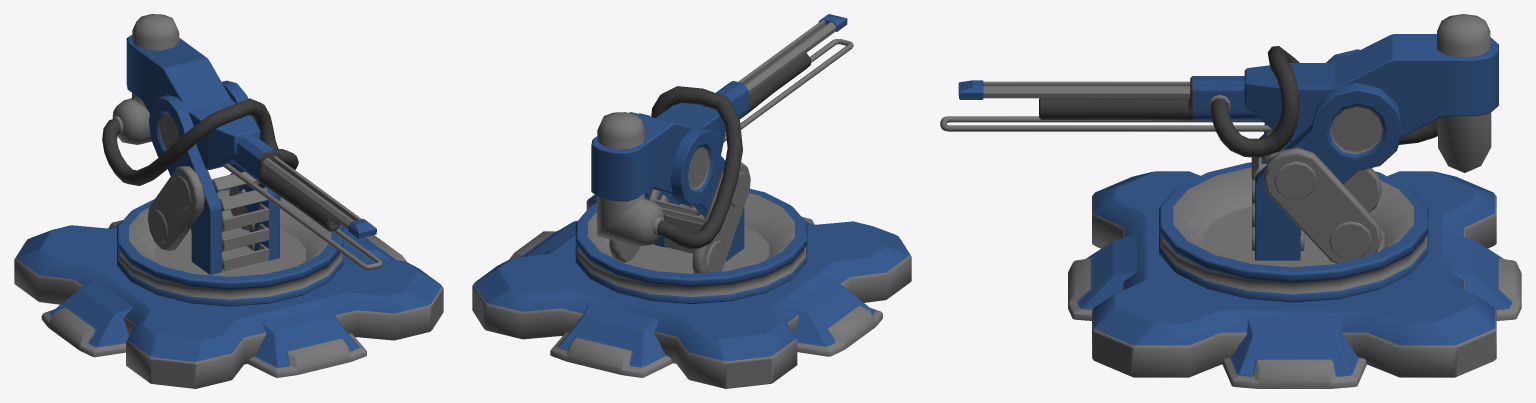
Rendered from Turret_Railgun.FBX.
The picture shows the model from 3 angles, left to right: view 1: azimuth 30°, elevation 25°; view 2: azimuth 150°, elevation 25°; view 3: azimuth 270°, elevation 25°; orthographic projection. The views are drawn at different scales.
Parts seen in each view (by area): view 1: Laser_Turret_Base003, Box004, Laser_Turret_Tower010, Cylinder003, Laser_Turret_Leg009, Laser_Turret_Leg010, Laser_Turret_Leg012; view 2: Laser_Turret_Base003, Box004, Laser_Turret_Tower010, Cylinder003, Laser_Turret_Leg011, Laser_Turret_Leg010, Laser_Turret_Leg012; view 3: Laser_Turret_Base003, Box004, Laser_Turret_Tower010, Cylinder003, Laser_Turret_Leg012, Laser_Turret_Leg011, Laser_Turret_Leg009.
Part boxes in pixels (x1,y1,x2,y2): Laser_Turret_Base003: (14, 225, 443, 388); Box004: (102, 14, 382, 269); Laser_Turret_Tower010: (117, 188, 343, 306); Cylinder003: (148, 80, 280, 274); Laser_Turret_Leg009: (248, 305, 366, 377); Laser_Turret_Leg010: (41, 279, 132, 357); Laser_Turret_Leg012: (341, 224, 406, 261); Laser_Turret_Base003: (472, 194, 911, 388); Box004: (591, 14, 853, 248); Laser_Turret_Tower010: (575, 188, 807, 304); Cylinder003: (609, 113, 750, 273); Laser_Turret_Leg011: (550, 303, 672, 377); Laser_Turret_Leg010: (790, 276, 882, 356); Laser_Turret_Leg012: (510, 221, 577, 258); Laser_Turret_Base003: (1092, 171, 1496, 377); Box004: (940, 14, 1498, 172); Laser_Turret_Tower010: (1159, 162, 1428, 302); Cylinder003: (1251, 49, 1402, 263); Laser_Turret_Leg012: (1222, 318, 1366, 388); Laser_Turret_Leg011: (1451, 233, 1521, 320); Laser_Turret_Leg009: (1068, 233, 1136, 320).
Size of the model in its own units: 133 by 87.84 by 170.
